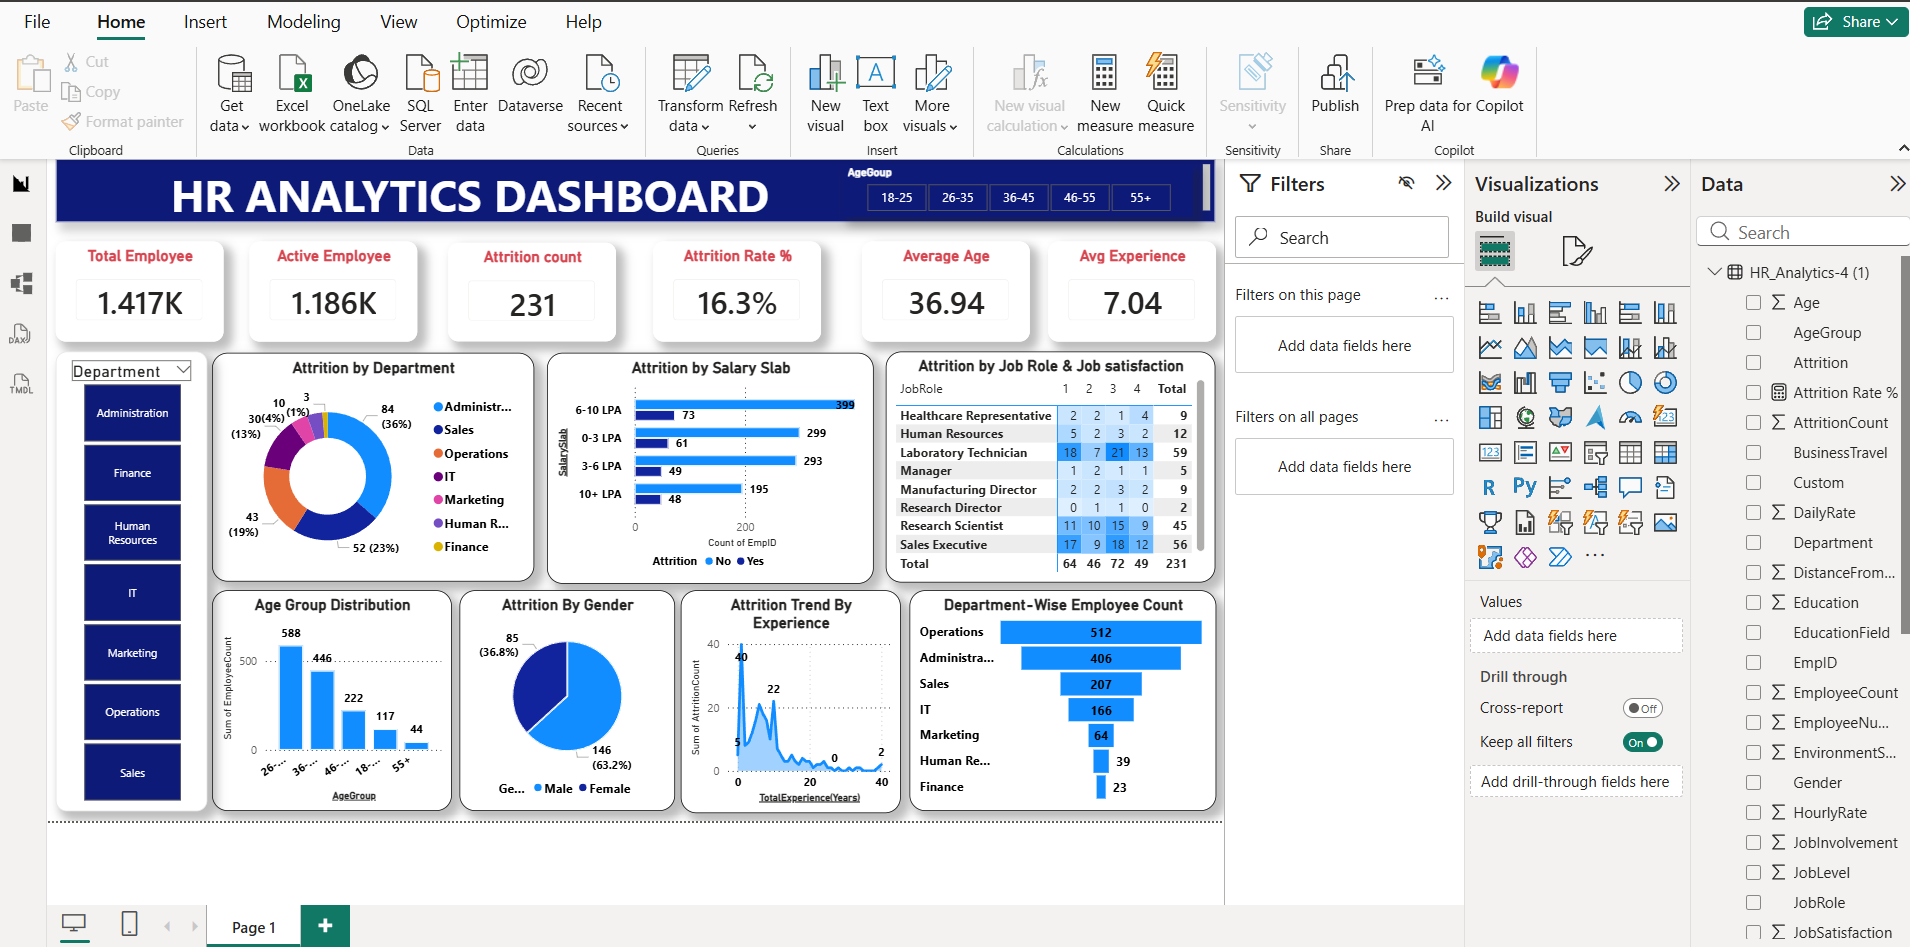

The page's visual inventory and layout, read from the dashboard file:
{"tool":"powerbi","page":{"name":"Page 1","canvas":[1280,720],"ordinal":0},"visuals":[{"type":"textbox","box":[9.6,0,1261.1,68.6],"z":0},{"type":"cardVisual","title":"Total Employee","fields":{"Data":["CountNonNull(HR_Analytics-4 (1).EmpID)"]},"box":[9.6,89.2,182.5,108.4],"z":1000},{"type":"cardVisual","title":"Active Employee","fields":{"Data":["CountNonNull(HR_Analytics-4 (1).EmployeeCount)"]},"box":[219.6,89.2,182.5,108.4],"z":2000},{"type":"cardVisual","title":"Attrition count","fields":{"Data":["Sum(HR_Analytics-4 (1).AttritionCount)"]},"box":[436.2,91.1,182.3,107.6],"z":3000},{"type":"cardVisual","title":"Average Age","fields":{"Data":["Avg(HR_Analytics-4 (1).Age)"]},"box":[886.5,89.2,182.5,108.4],"z":4000},{"type":"cardVisual","title":"Avg Experience","fields":{"Data":["Avg(HR_Analytics-4 (1).YearsatCompany)"]},"box":[1088.2,89.2,182.5,108.4],"z":5000},{"type":"cardVisual","title":"Attrition Rate %","fields":{"Data":["HR_Analytics-4 (1).Attrition Rate %"]},"box":[658.7,89.2,182.5,108.4],"z":6000},{"type":"donutChart","title":"Attrition by Department","fields":{"Category":["HR_Analytics-4 (1).Department"],"Y":["Sum(HR_Analytics-4 (1).AttritionCount)"]},"box":[179,210,350,249],"z":7000},{"type":"clusteredBarChart","title":"Attrition by Salary Slab","fields":{"Category":["HR_Analytics-4 (1).SalarySlab"],"Y":["CountNonNull(HR_Analytics-4 (1).EmpID)"],"Series":["HR_Analytics-4 (1).Attrition"]},"box":[543.4,211.3,355.4,251.1],"z":8000},{"type":"pivotTable","title":"Attrition by Job Role & Job satisfaction","fields":{"Rows":["HR_Analytics-4 (1).JobRole"],"Columns":["HR_Analytics-4 (1).JobSatisfaction"],"Values":["Sum(HR_Analytics-4 (1).AttritionCount)"]},"box":[912.5,209.9,358.1,251.1],"z":9000},{"type":"columnChart","title":"Age Group Distribution","fields":{"Category":["HR_Analytics-4 (1).AgeGroup"],"Y":["Sum(HR_Analytics-4 (1).EmployeeCount)"]},"box":[179,469,261,240.1],"z":10000},{"type":"pieChart","title":"Attrition By Gender","fields":{"Category":["HR_Analytics-4 (1).Gender"],"Y":["Sum(HR_Analytics-4 (1).AttritionCount)"]},"box":[448,469,234,240],"z":11000},{"type":"areaChart","title":"Attrition Trend By Experience","fields":{"Category":["HR_Analytics-4 (1).TotalExperience(Years)"],"Y":["Sum(HR_Analytics-4 (1).AttritionCount)"]},"box":[689,469,239,242],"z":12000},{"type":"funnel","title":"Department-Wise Employee Count","fields":{"Category":["HR_Analytics-4 (1).Department"],"Y":["CountNonNull(HR_Analytics-4 (1).EmpID)"]},"box":[937.2,469.3,333.4,240.1],"z":13000},{"type":"slicer","fields":{"Values":["HR_Analytics-4 (1).Department"]},"box":[9,209,165,500],"z":14000},{"type":"slicer","title":"AgeGoup","fields":{"Values":["HR_Analytics-4 (1).AgeGroup"]},"box":[865.9,6.9,380.1,56.3],"z":15000}]}

Visuals, with their boxes on the page's 1280x720 design canvas (x1, y1, x2, y2). These are canvas units, not pixel positions in the 1910x947 screenshot, which may show the page scaled, cropped or inside an application window:
textbox: <region>10, 0, 1271, 69</region>
"Total Employee" cardVisual: <region>10, 89, 192, 198</region>
"Active Employee" cardVisual: <region>220, 89, 402, 198</region>
"Attrition count" cardVisual: <region>436, 91, 618, 199</region>
"Average Age" cardVisual: <region>886, 89, 1069, 198</region>
"Avg Experience" cardVisual: <region>1088, 89, 1271, 198</region>
"Attrition Rate %" cardVisual: <region>659, 89, 841, 198</region>
"Attrition by Department" donutChart: <region>179, 210, 529, 459</region>
"Attrition by Salary Slab" clusteredBarChart: <region>543, 211, 899, 462</region>
"Attrition by Job Role & Job satisfaction" pivotTable: <region>912, 210, 1271, 461</region>
"Age Group Distribution" columnChart: <region>179, 469, 440, 709</region>
"Attrition By Gender" pieChart: <region>448, 469, 682, 709</region>
"Attrition Trend By Experience" areaChart: <region>689, 469, 928, 711</region>
"Department-Wise Employee Count" funnel: <region>937, 469, 1271, 709</region>
slicer - HR_Analytics-4 (1).Department: <region>9, 209, 174, 709</region>
"AgeGoup" slicer: <region>866, 7, 1246, 63</region>
